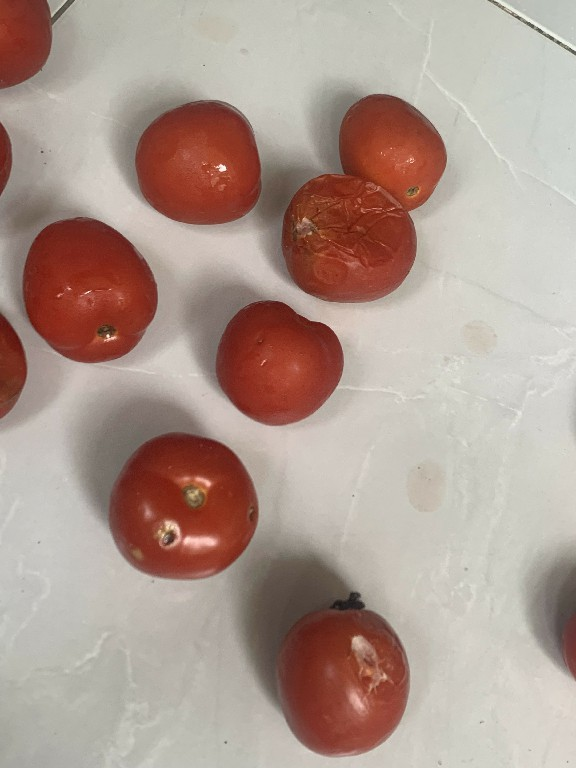NG: (102, 430, 261, 586), (274, 598, 417, 764), (282, 168, 417, 303)
OK: (21, 211, 158, 375), (207, 292, 349, 432), (129, 95, 268, 225), (331, 88, 450, 219)
